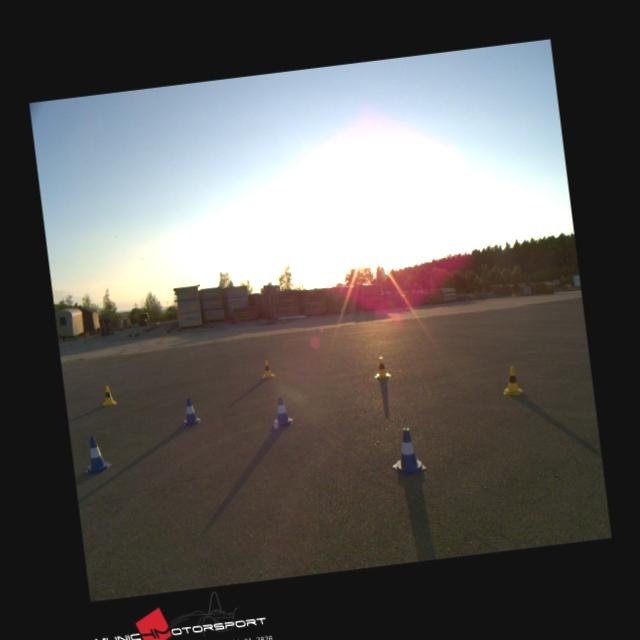blue_cone: (387, 426, 425, 476), (80, 434, 112, 474), (270, 395, 292, 427), (180, 396, 200, 425)
yellow_cone: (499, 364, 522, 395), (370, 356, 390, 378), (100, 385, 115, 405), (260, 358, 274, 376)
